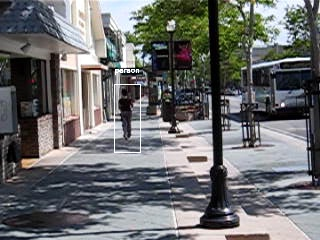person: (118, 90, 135, 141), (117, 90, 134, 141), (119, 90, 136, 141), (118, 89, 135, 140), (118, 91, 135, 142)
target_negative: (119, 85, 305, 237), (19, 4, 109, 107), (133, 146, 299, 176), (273, 157, 312, 185), (70, 230, 203, 236), (249, 205, 305, 210)
